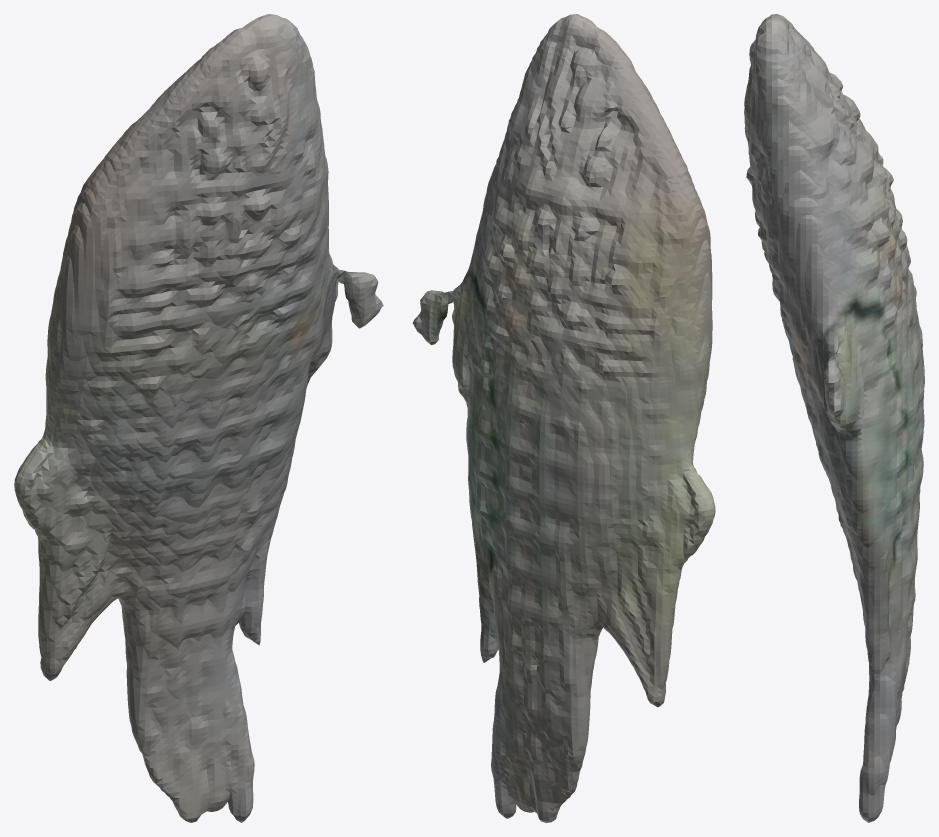
File: andinoacara-rivulatus.glb
3 views of the same model, side by side, from view 1: azimuth 30°, elevation 25°; view 2: azimuth 150°, elevation 25°; view 3: azimuth 270°, elevation 25° (orthographic). The views are drawn at different scales.
Parts seen in each view (by area): view 1: world; view 2: world; view 3: world.
Boxes of the visible parts, bbox=[...] form: world: bbox=[14, 14, 383, 822]; world: bbox=[412, 14, 715, 822]; world: bbox=[744, 14, 924, 822].
Bounding box in the file's own units: 0.4528 × 1.05 × 0.2175.
